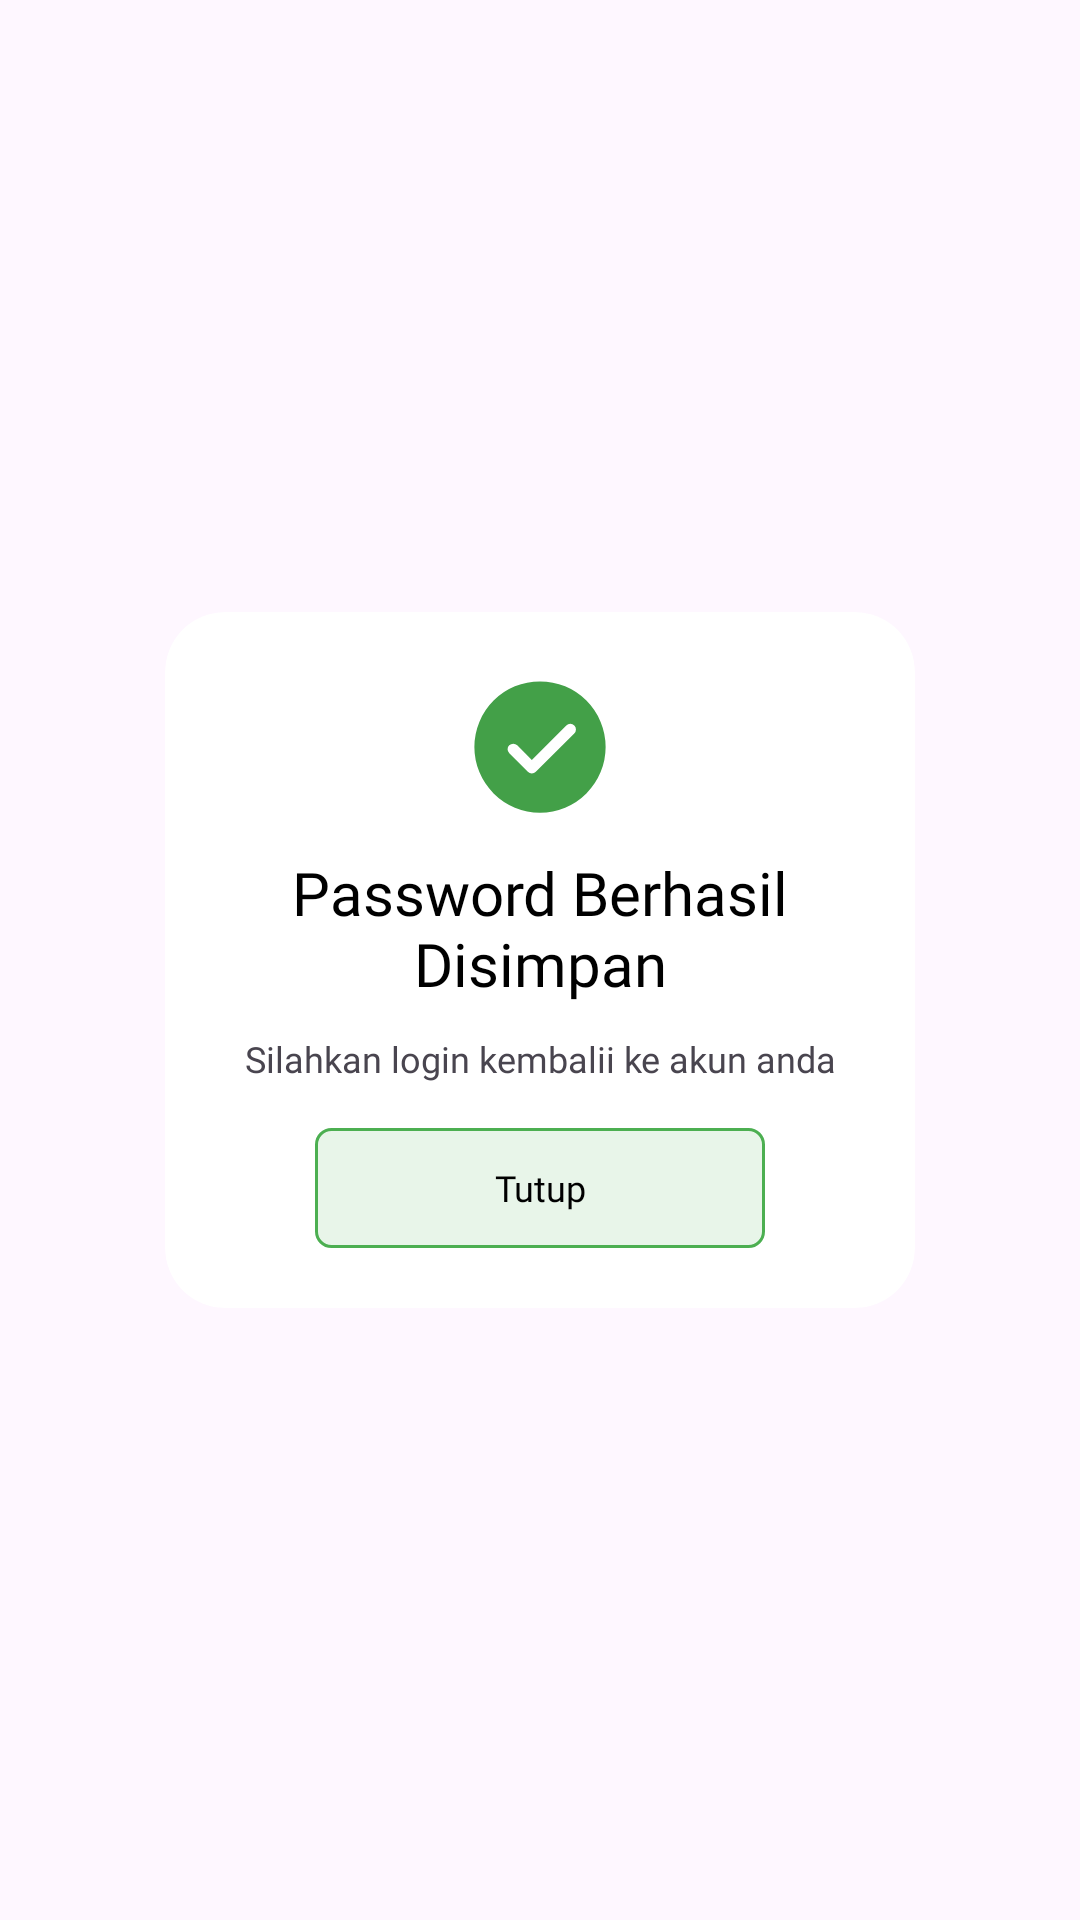

Screen size 1080 × 1920. Icon name, then its center in pixels as (x,y):
success: (540,747)
